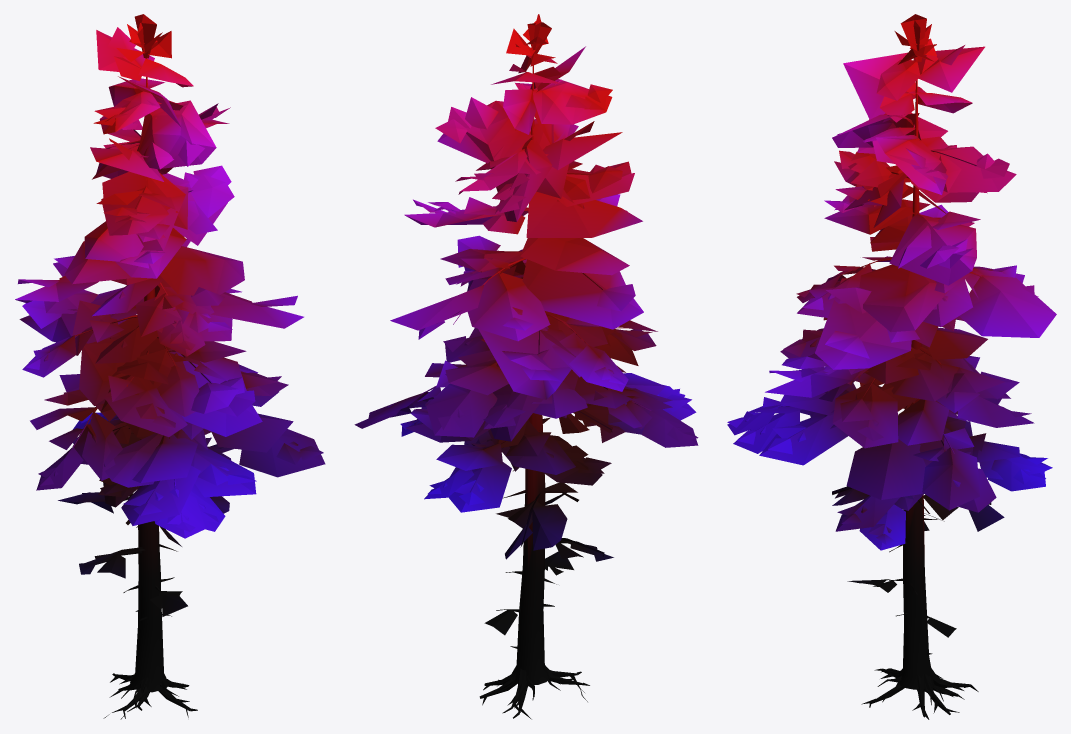
Rendered from Fir05.fbx.
The picture shows the model from 3 angles, left to right: view 1: azimuth 30°, elevation 25°; view 2: azimuth 150°, elevation 25°; view 3: azimuth 270°, elevation 25°; orthographic projection.
Parts seen in each view (by area): view 1: Fir05_LOD0; view 2: Fir05_LOD0; view 3: Fir05_LOD0.
Boxes of the visible parts, x1=… form: Fir05_LOD0: x1=15, y1=14, x2=325, y2=719; Fir05_LOD0: x1=354, y1=14, x2=698, y2=719; Fir05_LOD0: x1=727, y1=14, x2=1056, y2=719.
Size of what is drawn, in the model's own units: 944 by 2165 by 942.
